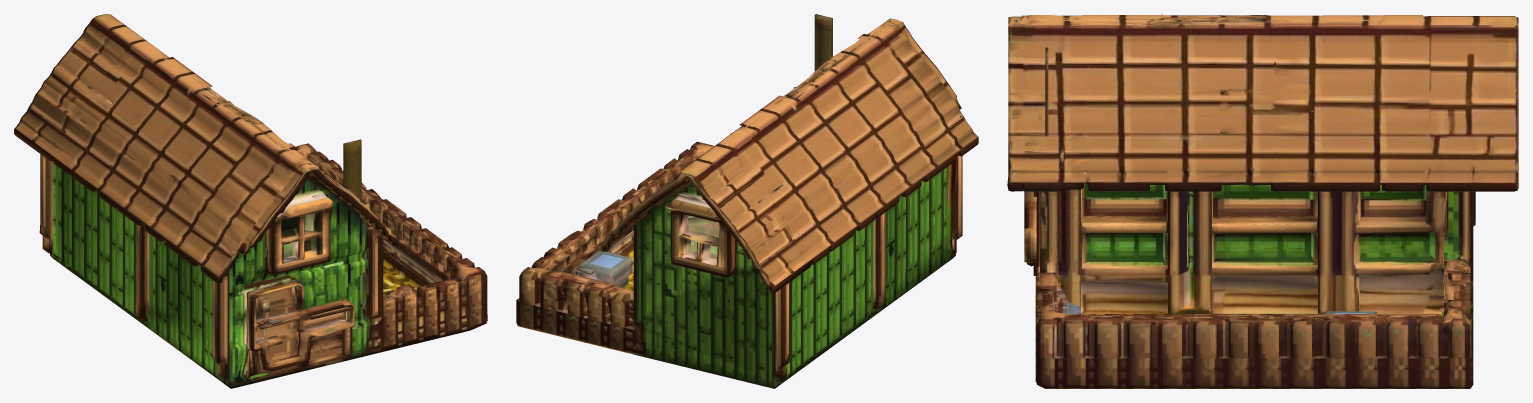
Rendered from coop.glb.
The picture shows the model from 3 angles, left to right: view 1: azimuth 30°, elevation 25°; view 2: azimuth 150°, elevation 25°; view 3: azimuth 270°, elevation 25°; orthographic projection. The views are drawn at different scales.
Bounding box in the file's own units: 1.45 × 1.06 × 1.91.
Materials: 1 (1 with a texture image).
